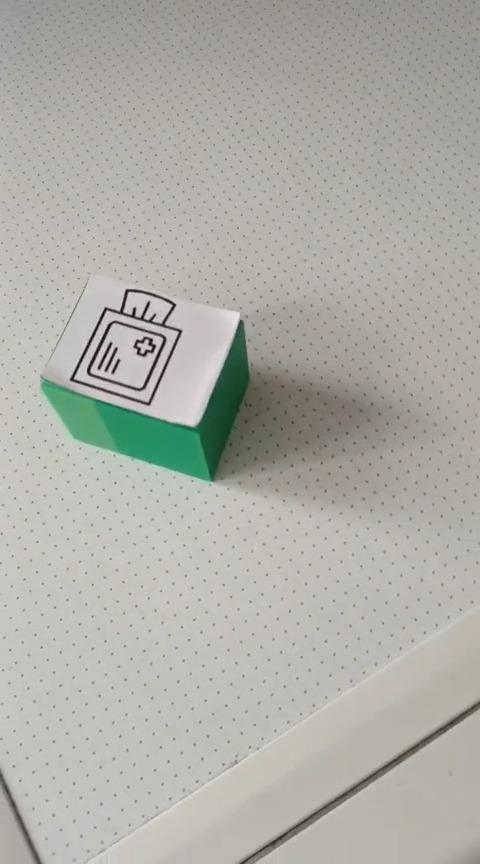Gauze: (38, 272, 250, 482)
